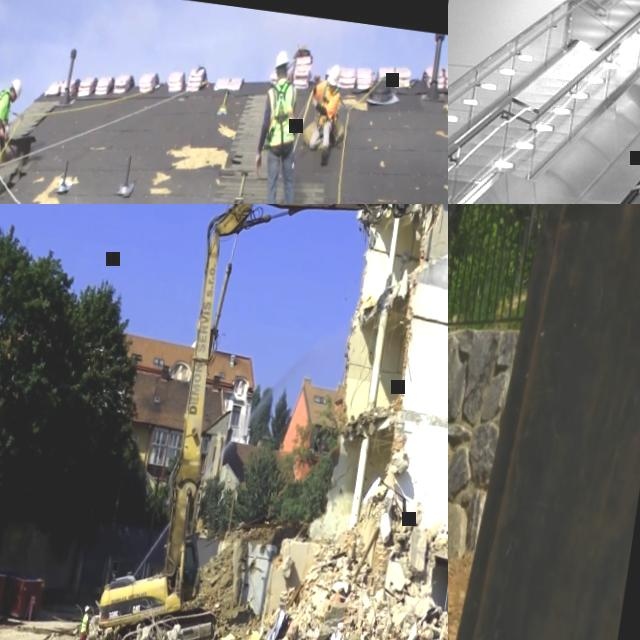helmet: (274, 50, 292, 70), (328, 64, 342, 86), (10, 80, 24, 99), (85, 605, 92, 614)
machinery: (94, 204, 426, 640)
person: (243, 50, 324, 204), (302, 62, 347, 168), (0, 75, 24, 184), (78, 604, 94, 640)
vest: (262, 78, 302, 145), (318, 85, 339, 125), (0, 86, 12, 132), (81, 614, 90, 634)
